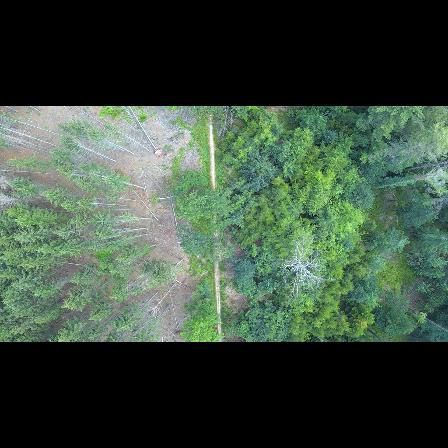Dead: (280, 237, 334, 287)
